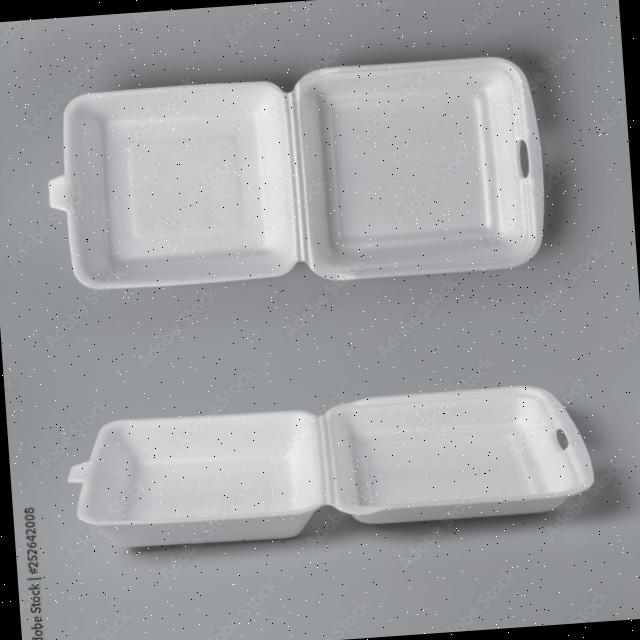styrofoam: (39, 51, 550, 302), (62, 378, 598, 554)
